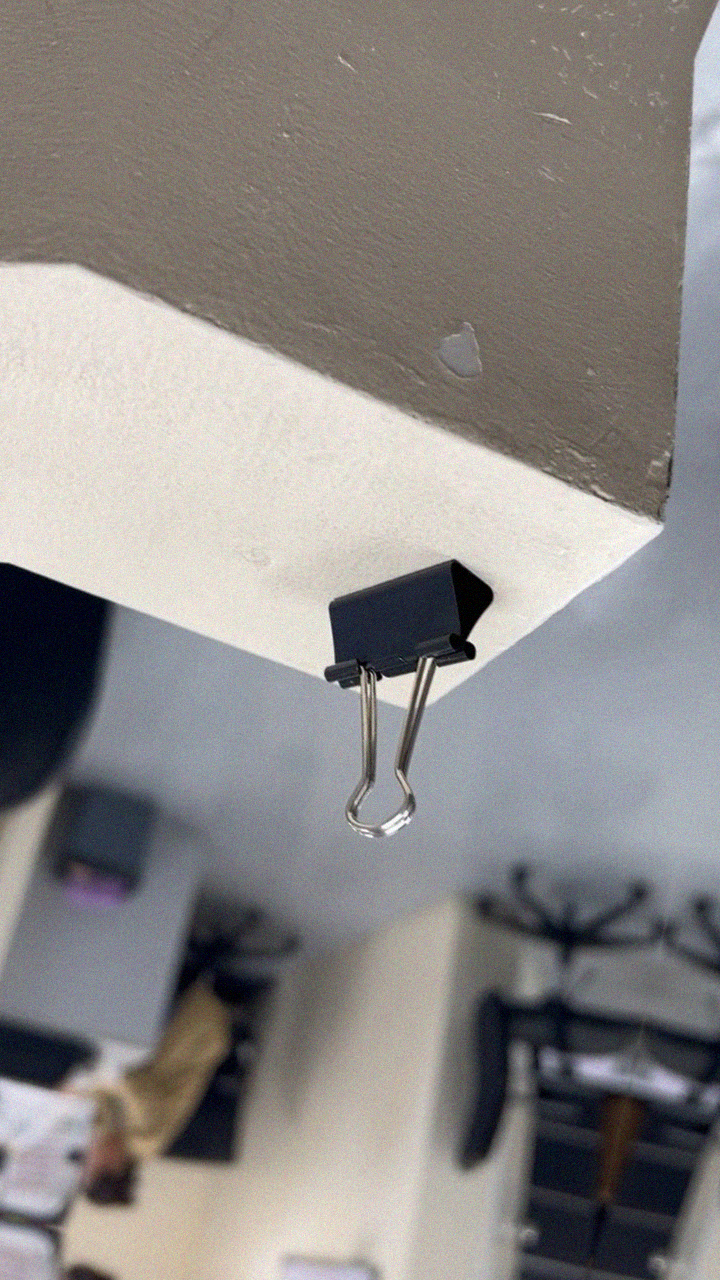kep_giay: (277, 530, 505, 856)
